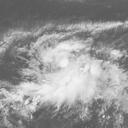cyclone: (37, 37, 103, 102)
